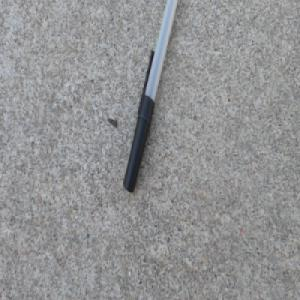Pen: (121, 0, 179, 195)
